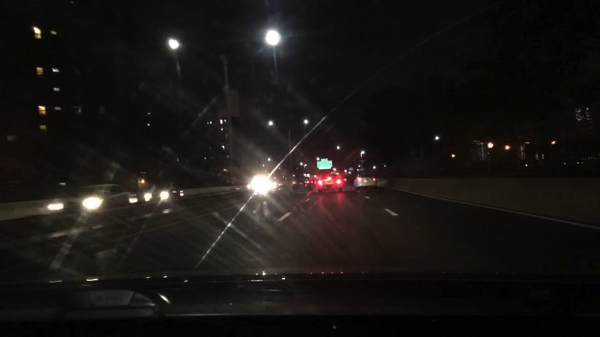car: (47, 183, 138, 213), (143, 183, 185, 202), (316, 173, 344, 193), (352, 172, 377, 190), (249, 174, 272, 191), (291, 174, 312, 191), (341, 174, 353, 187), (309, 176, 317, 187)
traffic sign: (215, 90, 240, 118), (316, 158, 332, 169)
